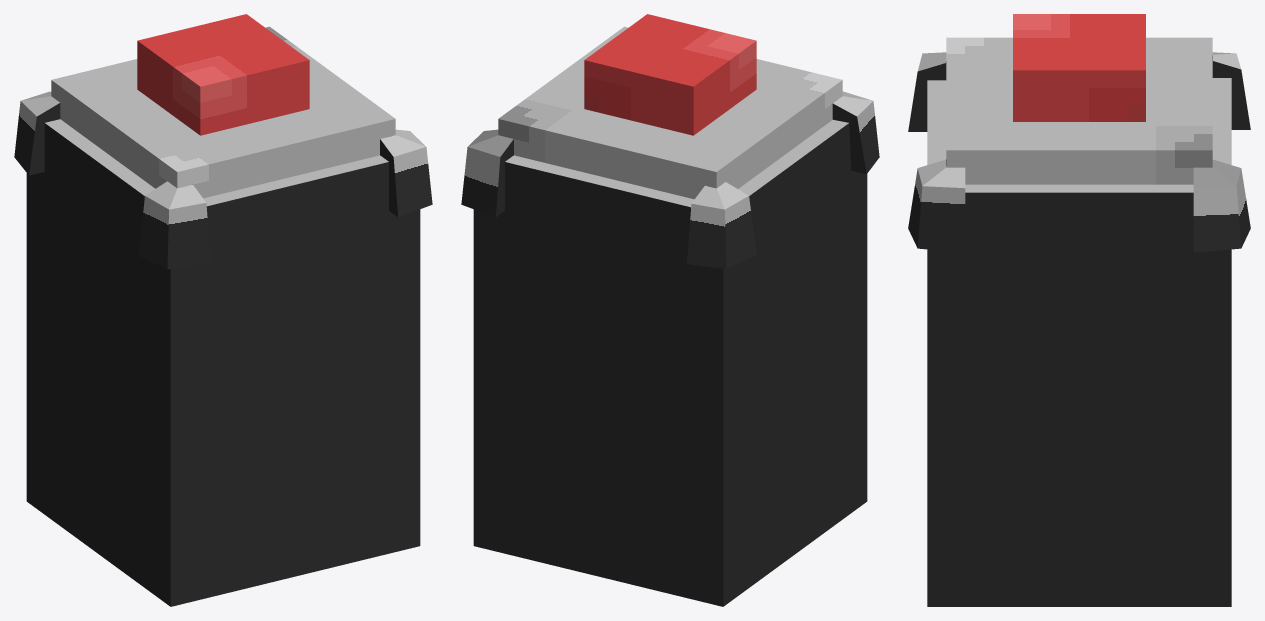
Rendered from button.fbx.
The picture shows the model from 3 angles, left to right: view 1: azimuth 30°, elevation 25°; view 2: azimuth 150°, elevation 25°; view 3: azimuth 270°, elevation 25°; orthographic projection. The views are drawn at different scales.
Visible parts, largest first — view 1: frame, button, edges; view 2: frame, button, edges; view 3: frame, button, edges.
Boxes of the visible parts, x1,y1,x2,y2 form: frame: [26, 26, 420, 606]; button: [137, 14, 309, 135]; edges: [14, 91, 432, 269]; frame: [473, 26, 867, 606]; button: [584, 14, 756, 135]; edges: [461, 91, 879, 269]; frame: [927, 37, 1231, 606]; button: [1013, 14, 1145, 121]; edges: [908, 52, 1250, 252].
Bounding box in the file's own units: 112 × 181 × 112.
Materials: 1 (1 with a texture image).
